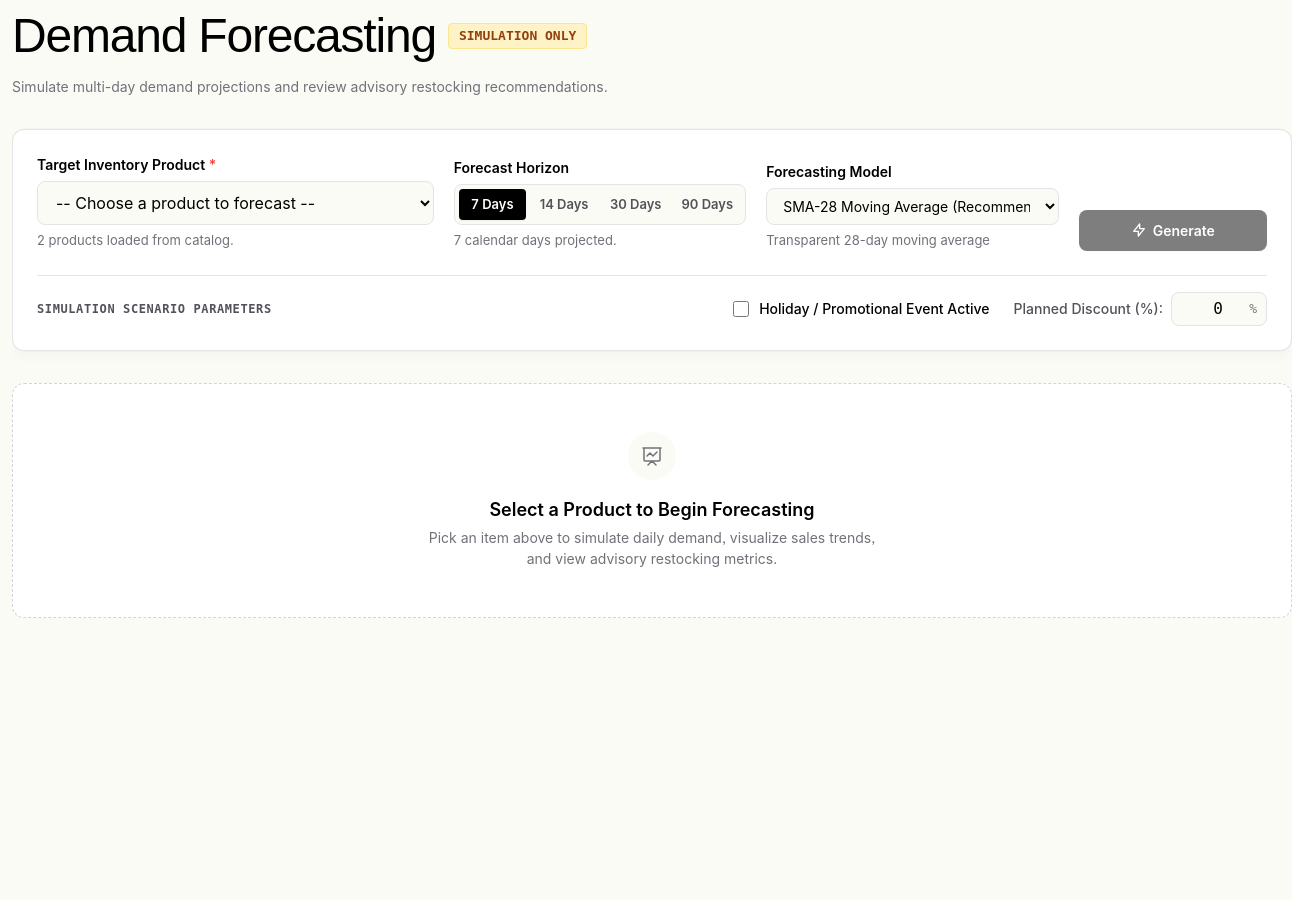
Test case: ForecastingPage Component › displays error banner with retry option on API failure
The width and height of the screenshot is (1292, 900).
Select "Wireless Mouse (SKU-WM-001) · Stock: 15" in the dropdown labelled "Target Inventory Product *": [235, 203] box [37,181,434,225]
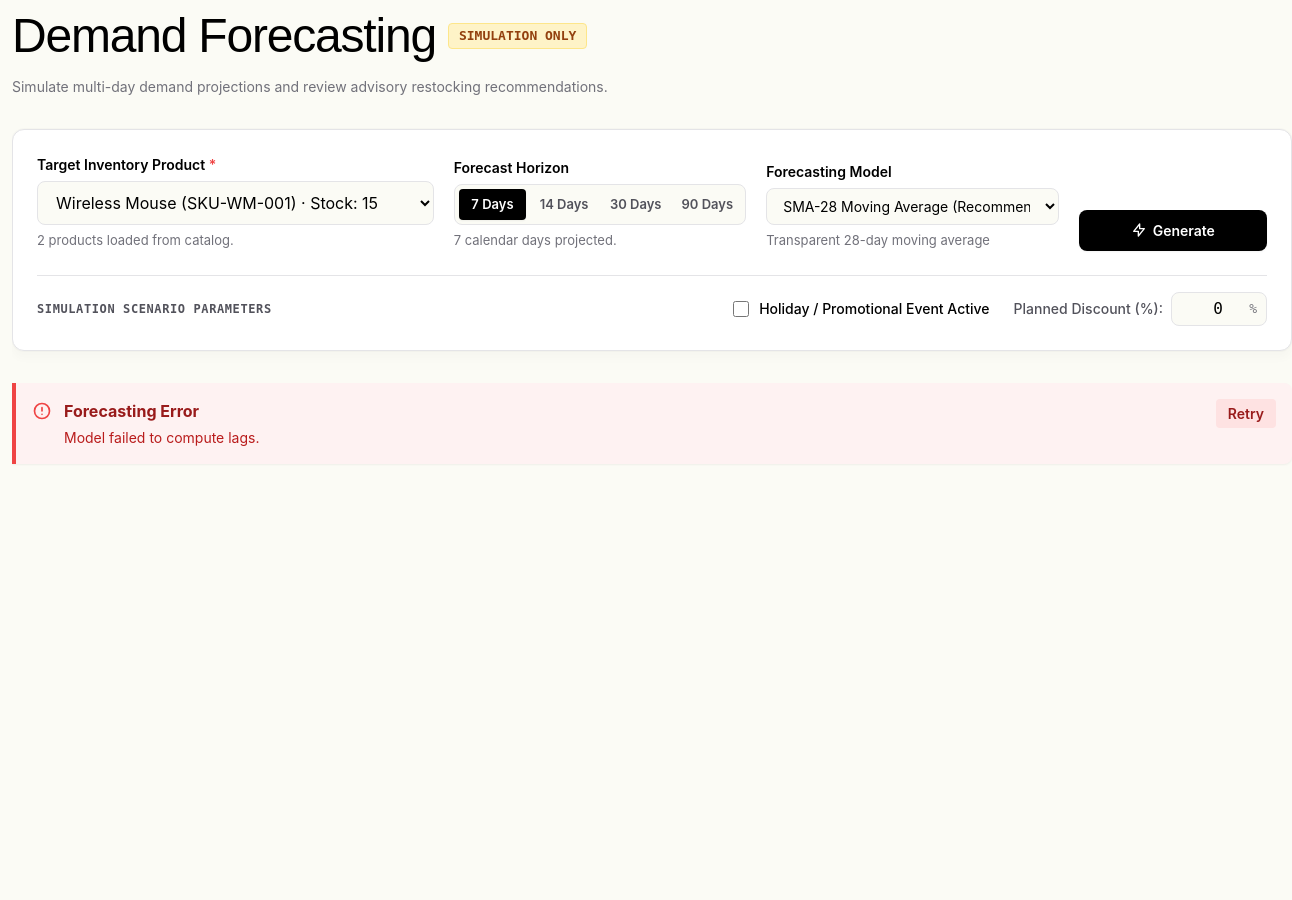
expect the message "Forecasting Error Model failed to compute lags. Retry" is shown: met, box [12,382,1291,464]
expect the text "Model failed to compute lags." is shown: met, box [64,426,260,448]
expect the button "Retry" is shown: met, box [1216,398,1276,428]
